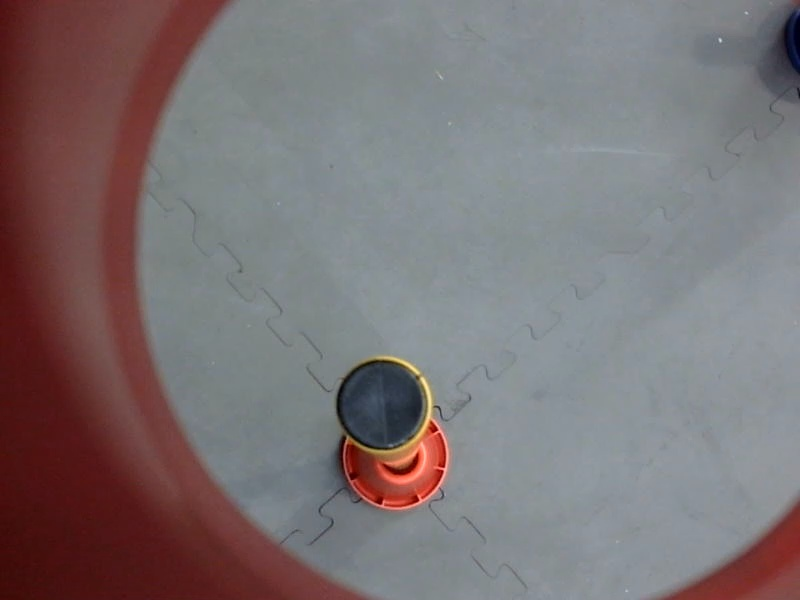tip: (324, 351, 439, 460)
